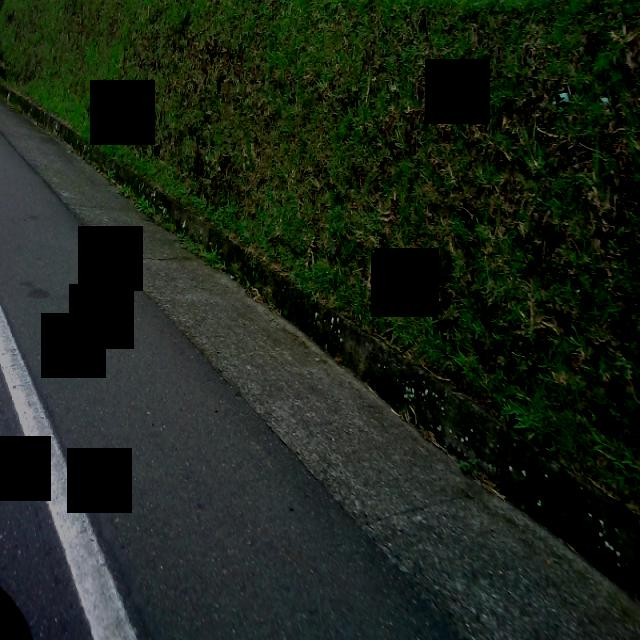DITCH: (2, 94, 638, 638)
